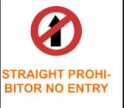Traffic signal: (30, 7, 85, 57)
